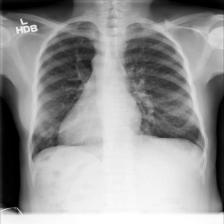normal: (23, 15, 210, 161)
